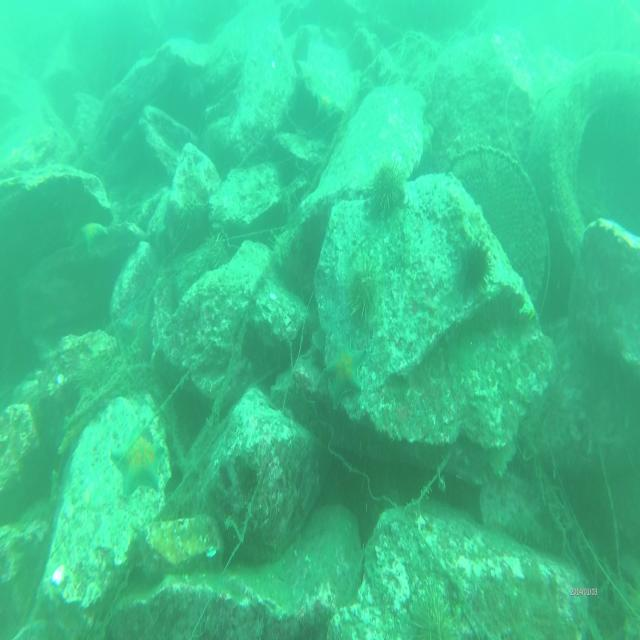echinus: (410, 585, 456, 640), (346, 255, 378, 318), (368, 160, 406, 213), (459, 233, 491, 289)
starfish: (112, 425, 164, 490), (325, 339, 371, 410), (79, 219, 107, 254), (316, 82, 337, 120)
